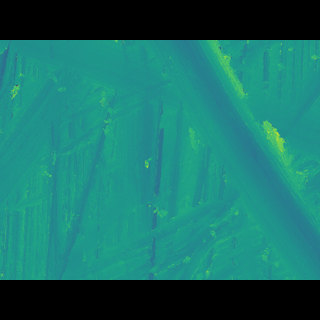Loch: (144, 69, 320, 250), (0, 89, 98, 205)
